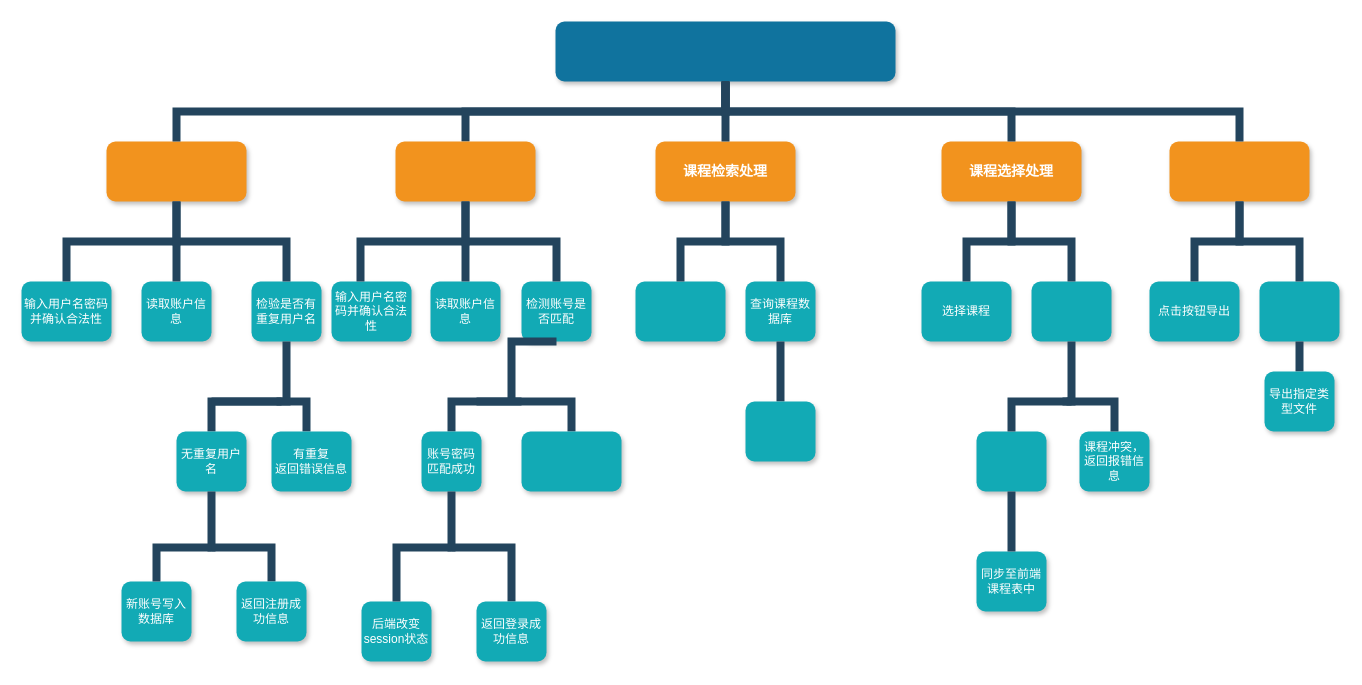
This 1362x685 diagram has some shape labels left out. The shapes that lost their labels are listed below. From the top down, each one's centre as x and y in pixels, then its label:
At (x=726, y=52): "选课辅助网站".
At (x=177, y=172): "注册处理".
At (x=466, y=172): "登录处理".
At (x=1240, y=172): "课表导出处理".
At (x=681, y=312): "输入各类筛选条件".
At (x=1072, y=312): "点击按钮添加".
At (x=1300, y=312): "选择导出类型".
At (x=781, y=432): "返回课程信息".
At (x=572, y=462): "账号匹配失败，返回错误信息".
At (x=1012, y=462): "课程可以被选择".
